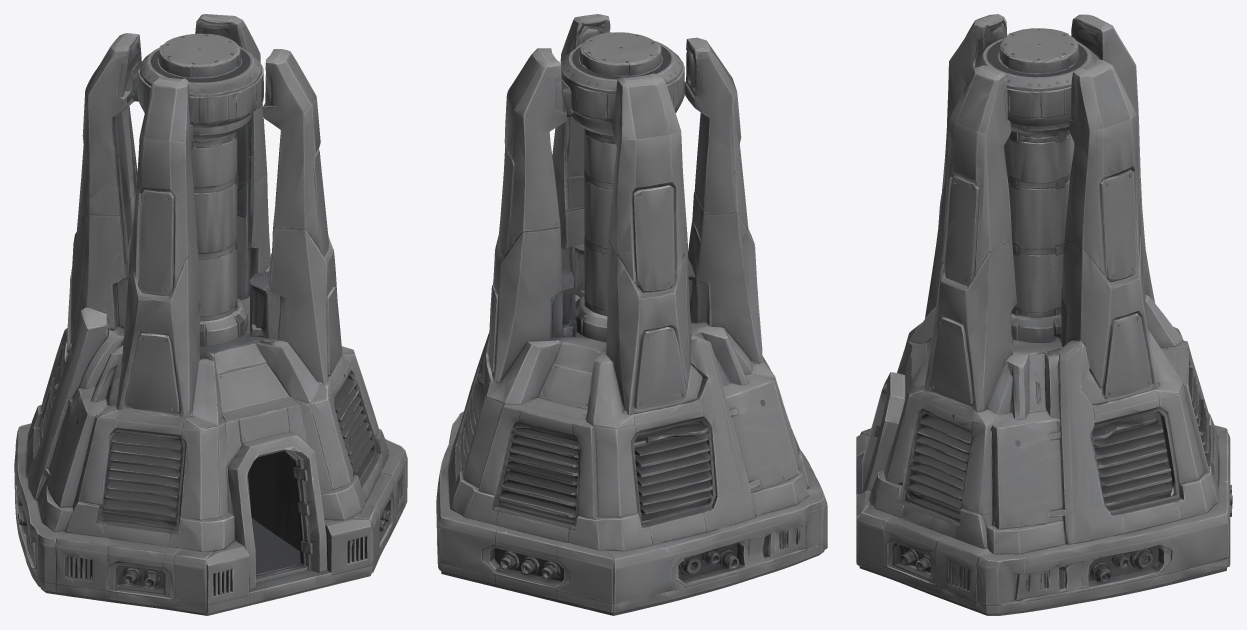
Rendered from shared_planetary_shield_pylon.glb.
The picture shows the model from 3 angles, left to right: view 1: azimuth 30°, elevation 25°; view 2: azimuth 150°, elevation 25°; view 3: azimuth 270°, elevation 25°; orthographic projection.
Visible parts, largest first — view 1: mesh_node; view 2: mesh_node; view 3: mesh_node.
Boxes of the visible parts, left/top/right/bottom form: mesh_node: left=14, top=14, right=407, bottom=615; mesh_node: left=436, top=14, right=827, bottom=615; mesh_node: left=856, top=14, right=1232, bottom=615.
Bounding box in the file's own units: 10.35 × 13.07 × 9.19.
Materials: 1 (1 with a texture image).
